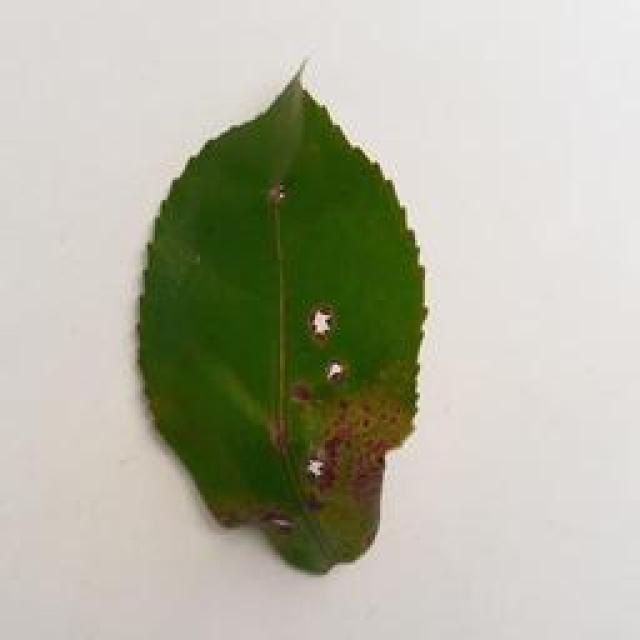Helopeltis: (135, 54, 446, 582)
